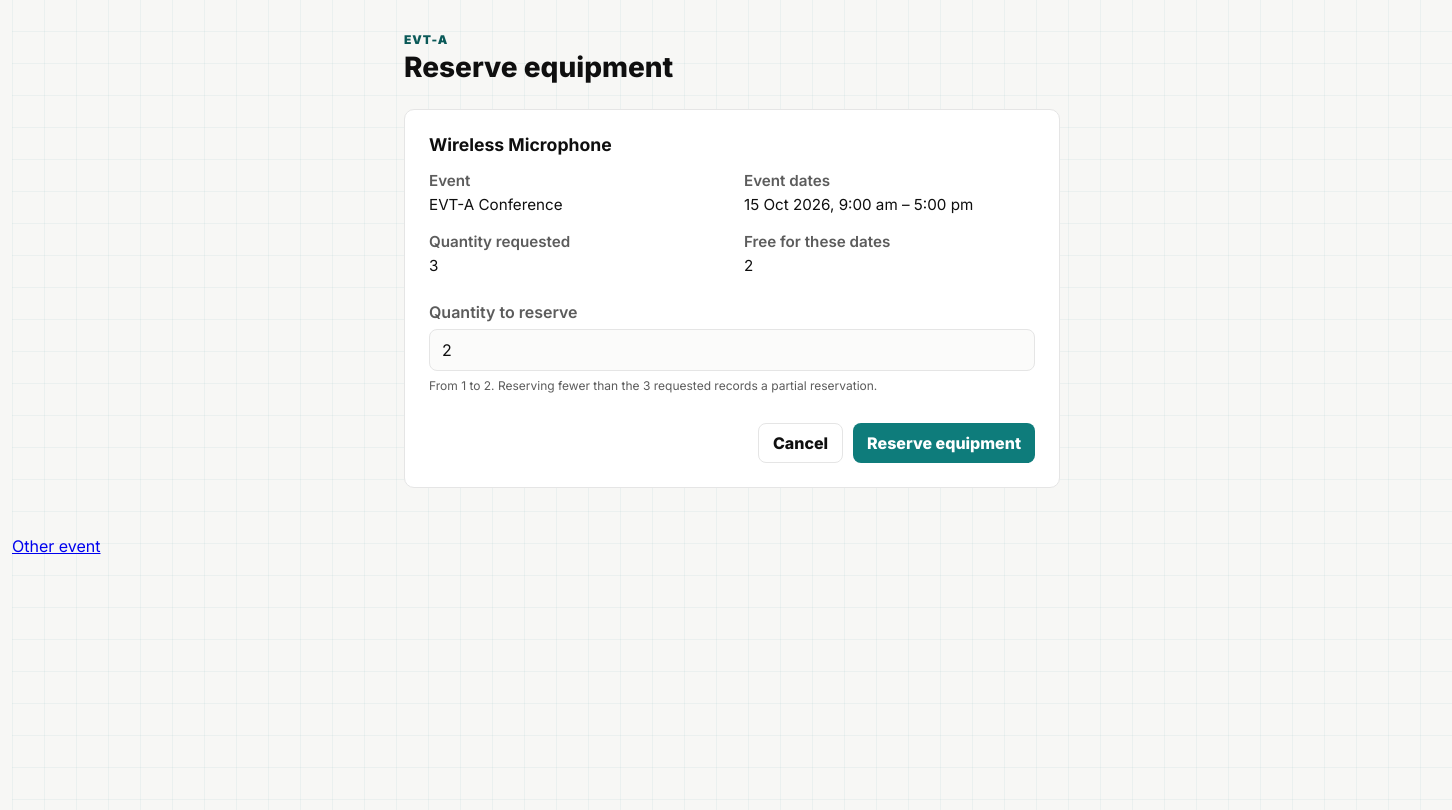
Test: TC_E07S04_02 - a partial reservation shows Partial and the outstanding quantity
This screenshot has width=1452, height=810.
Expected: the number field labelled "Quantity to reserve" holds "2", [429,329,1035,371]
Click the button "Reserve equipment". click: (944, 443)
box: [853,423,1035,463]
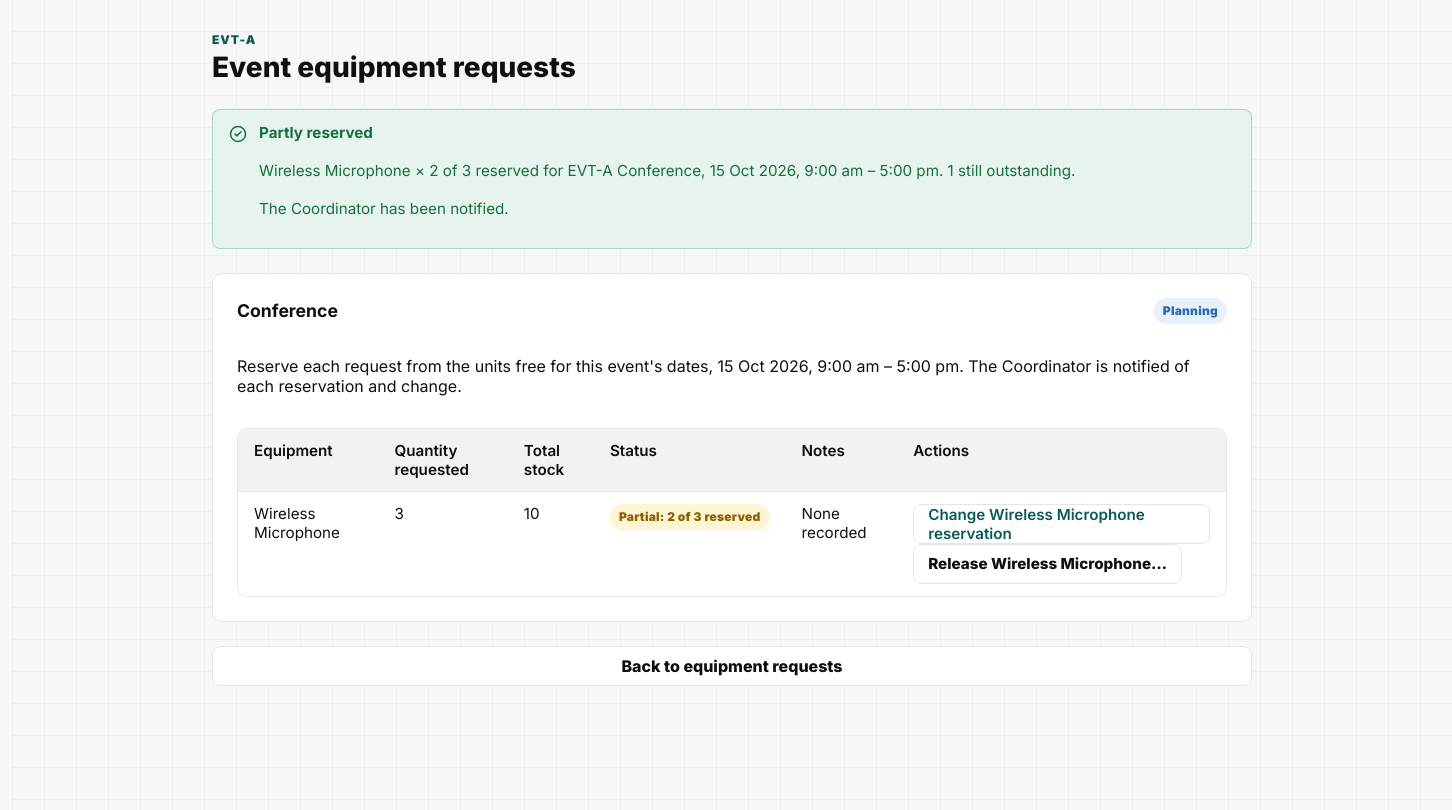
Expected: the text "Wireless Microphone × 2 of 3 reserved for EVT-A Conference, 15 Oct 2026, 9:00 am – 5:00 pm. 1 still outstanding." is shown, [259,161,1076,180]
Expected: the text "Partly reserved" is shown, [259,123,373,142]
Expected: the text "Partial: 2 of 3 reserved" is shown, [610,504,770,530]
